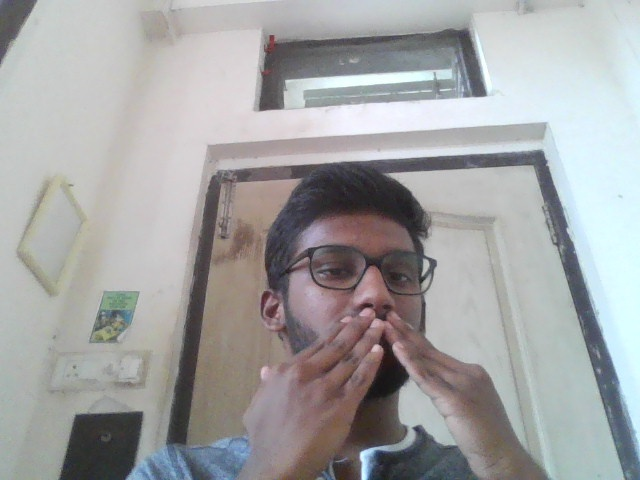Thank You: (244, 308, 523, 480)
